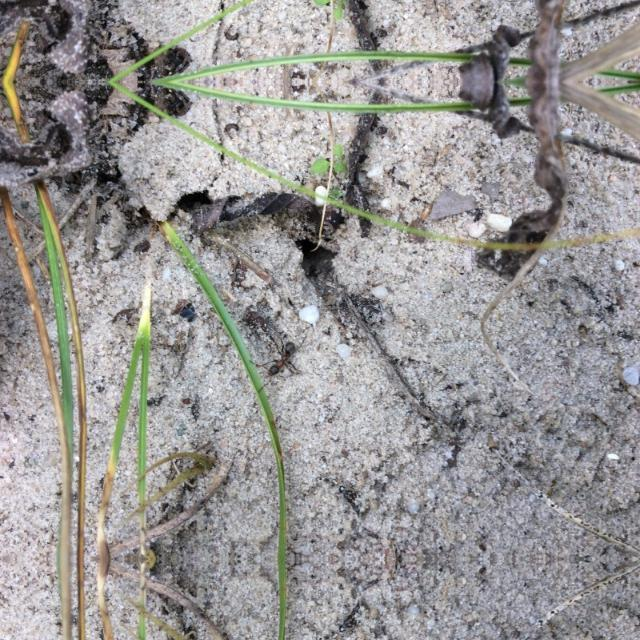Formica: (262, 334, 304, 386)
